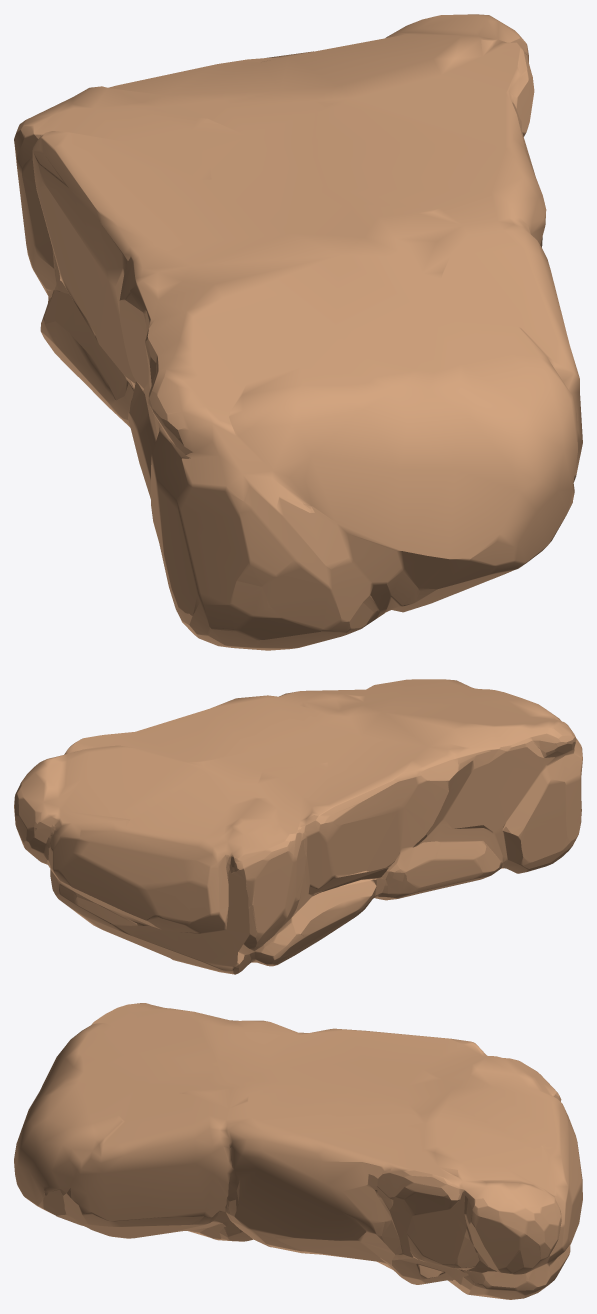
3 renders of one model, top to bottom at view 1: azimuth 30°, elevation 25°; view 2: azimuth 150°, elevation 25°; view 3: azimuth 270°, elevation 25°, orthographic. The views are drawn at different scales.
Parts seen in each view (by area): view 1: Mesh_8_LOD0; view 2: Mesh_8_LOD0; view 3: Mesh_8_LOD0.
Boxes of the visible parts, x1,y1,x2,y2 form: Mesh_8_LOD0: [14, 14, 582, 650]; Mesh_8_LOD0: [14, 679, 582, 974]; Mesh_8_LOD0: [14, 1003, 582, 1299].
Size of what is drawn, in the model's own units: 2592 by 1066 by 3129.
